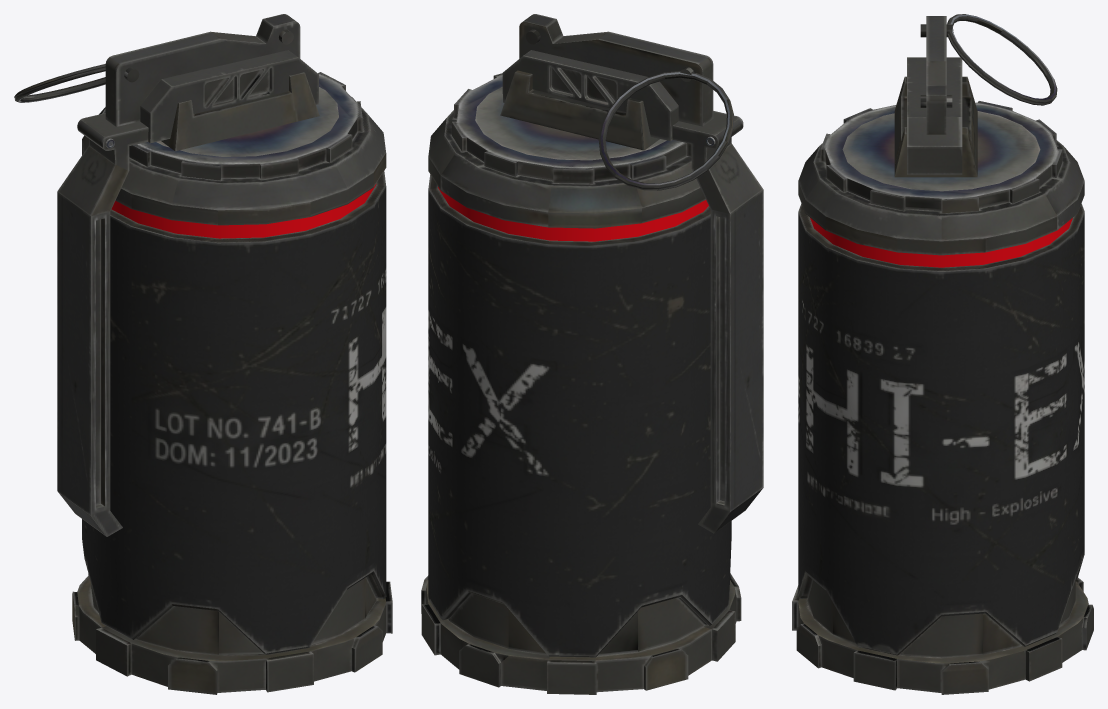
File: Hi-Ex Grenade Pickup.fbx
3 views of the same model, side by side, from view 1: azimuth 30°, elevation 25°; view 2: azimuth 150°, elevation 25°; view 3: azimuth 270°, elevation 25° (orthographic). The views are drawn at different scales.
Parts seen in each view (by area): view 1: Hi-Ex Grenade Pickup_LOD0; view 2: Hi-Ex Grenade Pickup_LOD0; view 3: Hi-Ex Grenade Pickup_LOD0.
Boxes of the visible parts, x1,y1,x2,y2 form: Hi-Ex Grenade Pickup_LOD0: (14, 14, 392, 694); Hi-Ex Grenade Pickup_LOD0: (421, 14, 763, 694); Hi-Ex Grenade Pickup_LOD0: (792, 14, 1093, 694).
Size of what is drawn, in the model's own units: 13.55 by 24.23 by 11.77.
